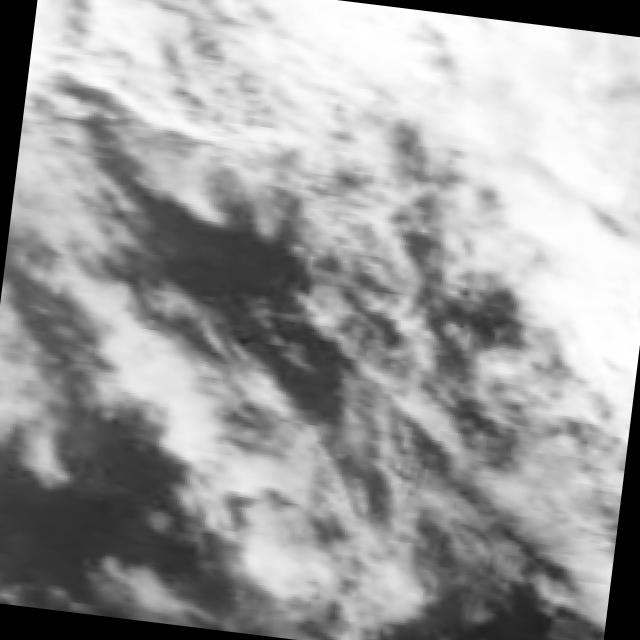CB: (502, 23, 640, 284), (324, 0, 538, 146)
